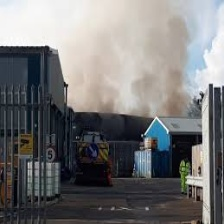smoke: (62, 5, 189, 115)
